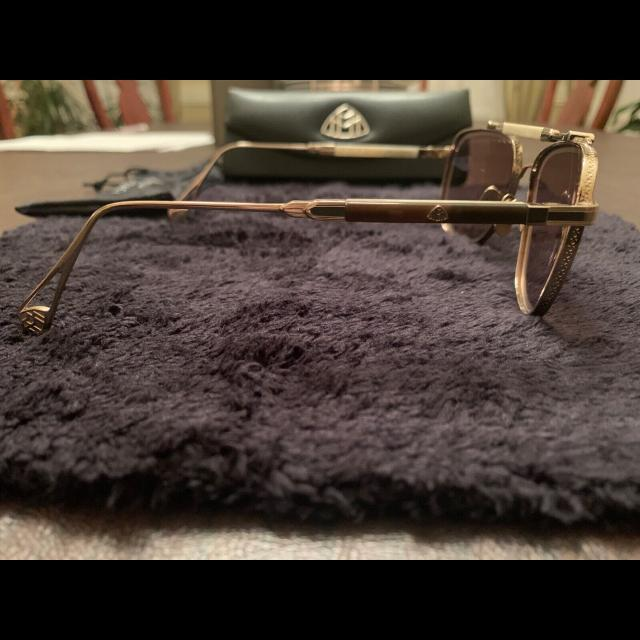glasses: (17, 118, 599, 334)
